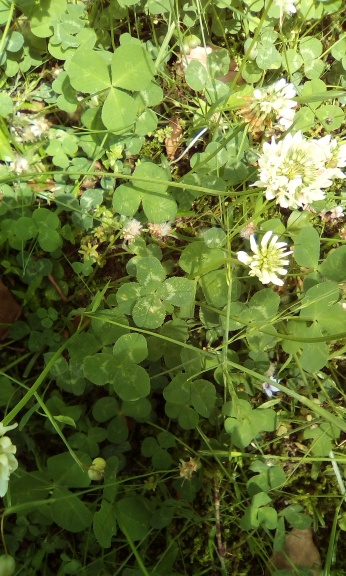4leaf: (115, 256, 196, 330)
